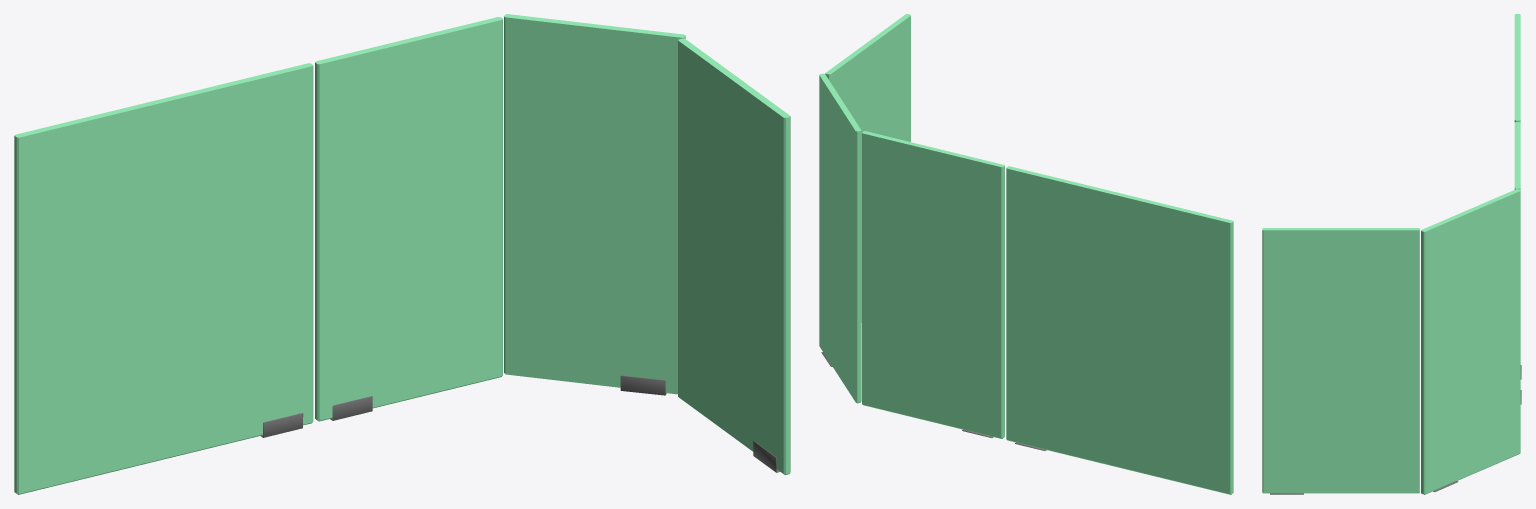
File: SM_Ki_Furniture_04_Doors.fbx
3 renders of one model, left to right at view 1: azimuth 30°, elevation 25°; view 2: azimuth 150°, elevation 25°; view 3: azimuth 270°, elevation 25°, orthographic. The views are drawn at different scales.
Parts seen in each view (by area): view 1: Cube.000; view 2: Cube.000; view 3: Cube.000.
Boxes of the visible parts, left/top/right/bottom form: Cube.000: left=14, top=14, right=790, bottom=494; Cube.000: left=819, top=14, right=1233, bottom=494; Cube.000: left=1262, top=14, right=1521, bottom=494.
Bounding box in the file's own units: 137 × 77.81 × 69.21.
